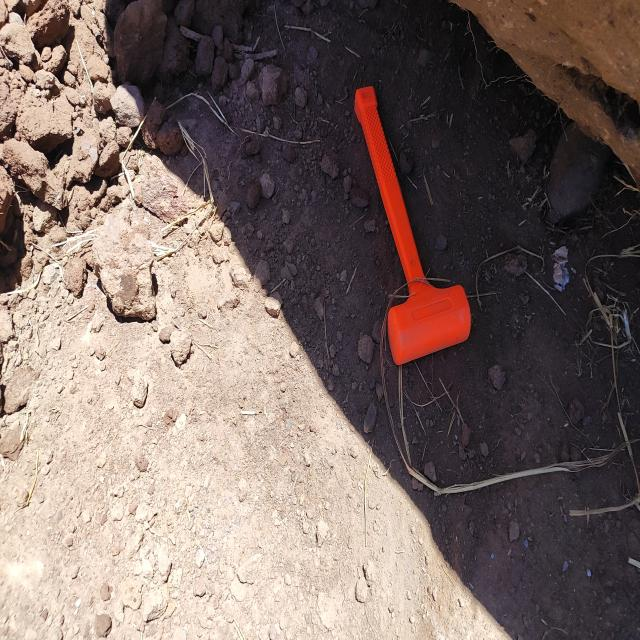Orange_hammer: (353, 84, 472, 366)
